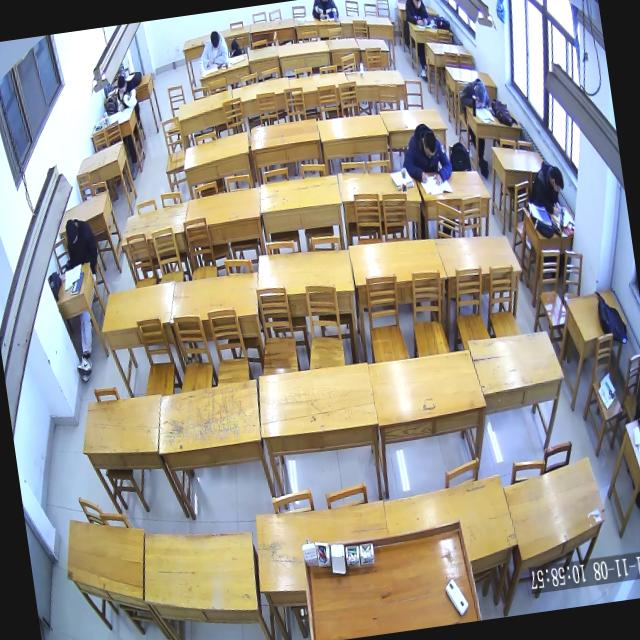bow: (196, 26, 231, 70), (457, 74, 491, 111)
down: (420, 129, 440, 162), (548, 164, 566, 194), (63, 217, 80, 247), (208, 28, 222, 52), (115, 74, 128, 96), (411, 0, 423, 11)
sit: (397, 118, 455, 192), (524, 156, 568, 220), (62, 214, 100, 274), (112, 73, 140, 114), (402, 0, 431, 30)
